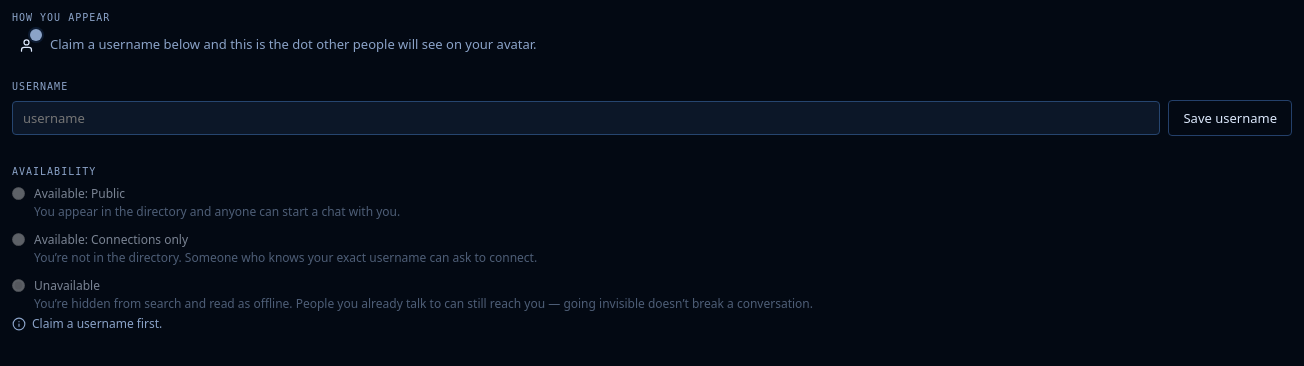
SettingsChatPane — claiming a username › a 200 from the probe paints TAKEN; a 404 paints looks-free (never a promise it is free)
Type "taken_one" into the field with test id "chat-username-input".
click(586, 118); type("taken_one")  # box [12,101,1160,135]
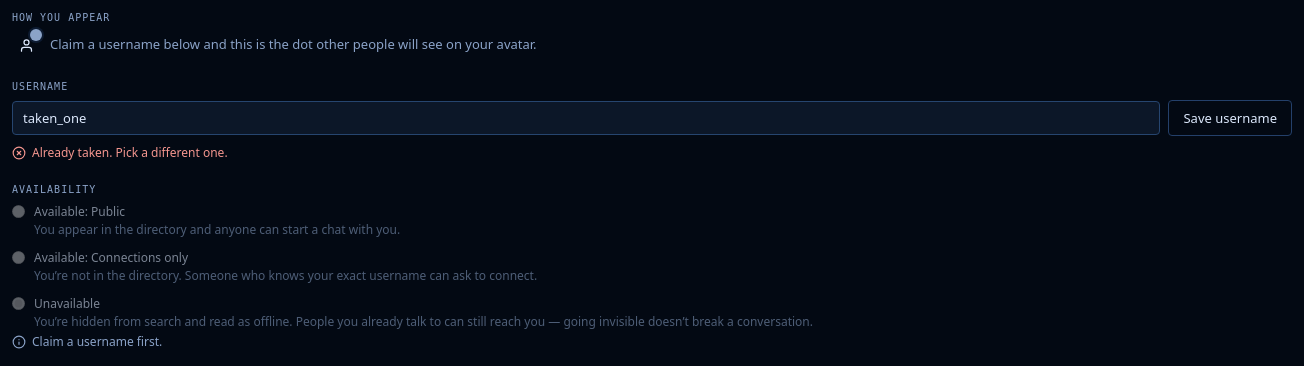
Replace the text in the field with test id "chat-username-input" with "free_one" at (586,118), box [12,101,1160,135]
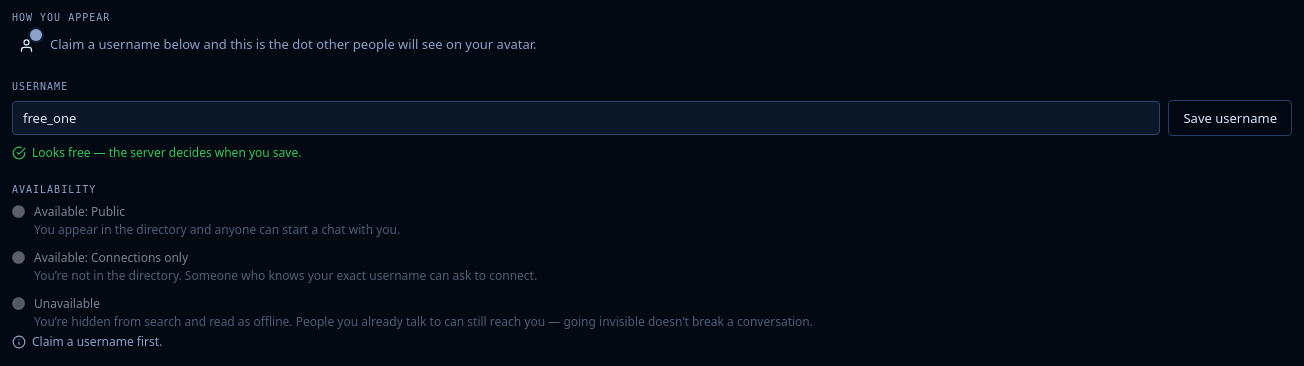
expect the element with test id "chat-username-check" shows "Looks free": met, box [32,144,301,161]
